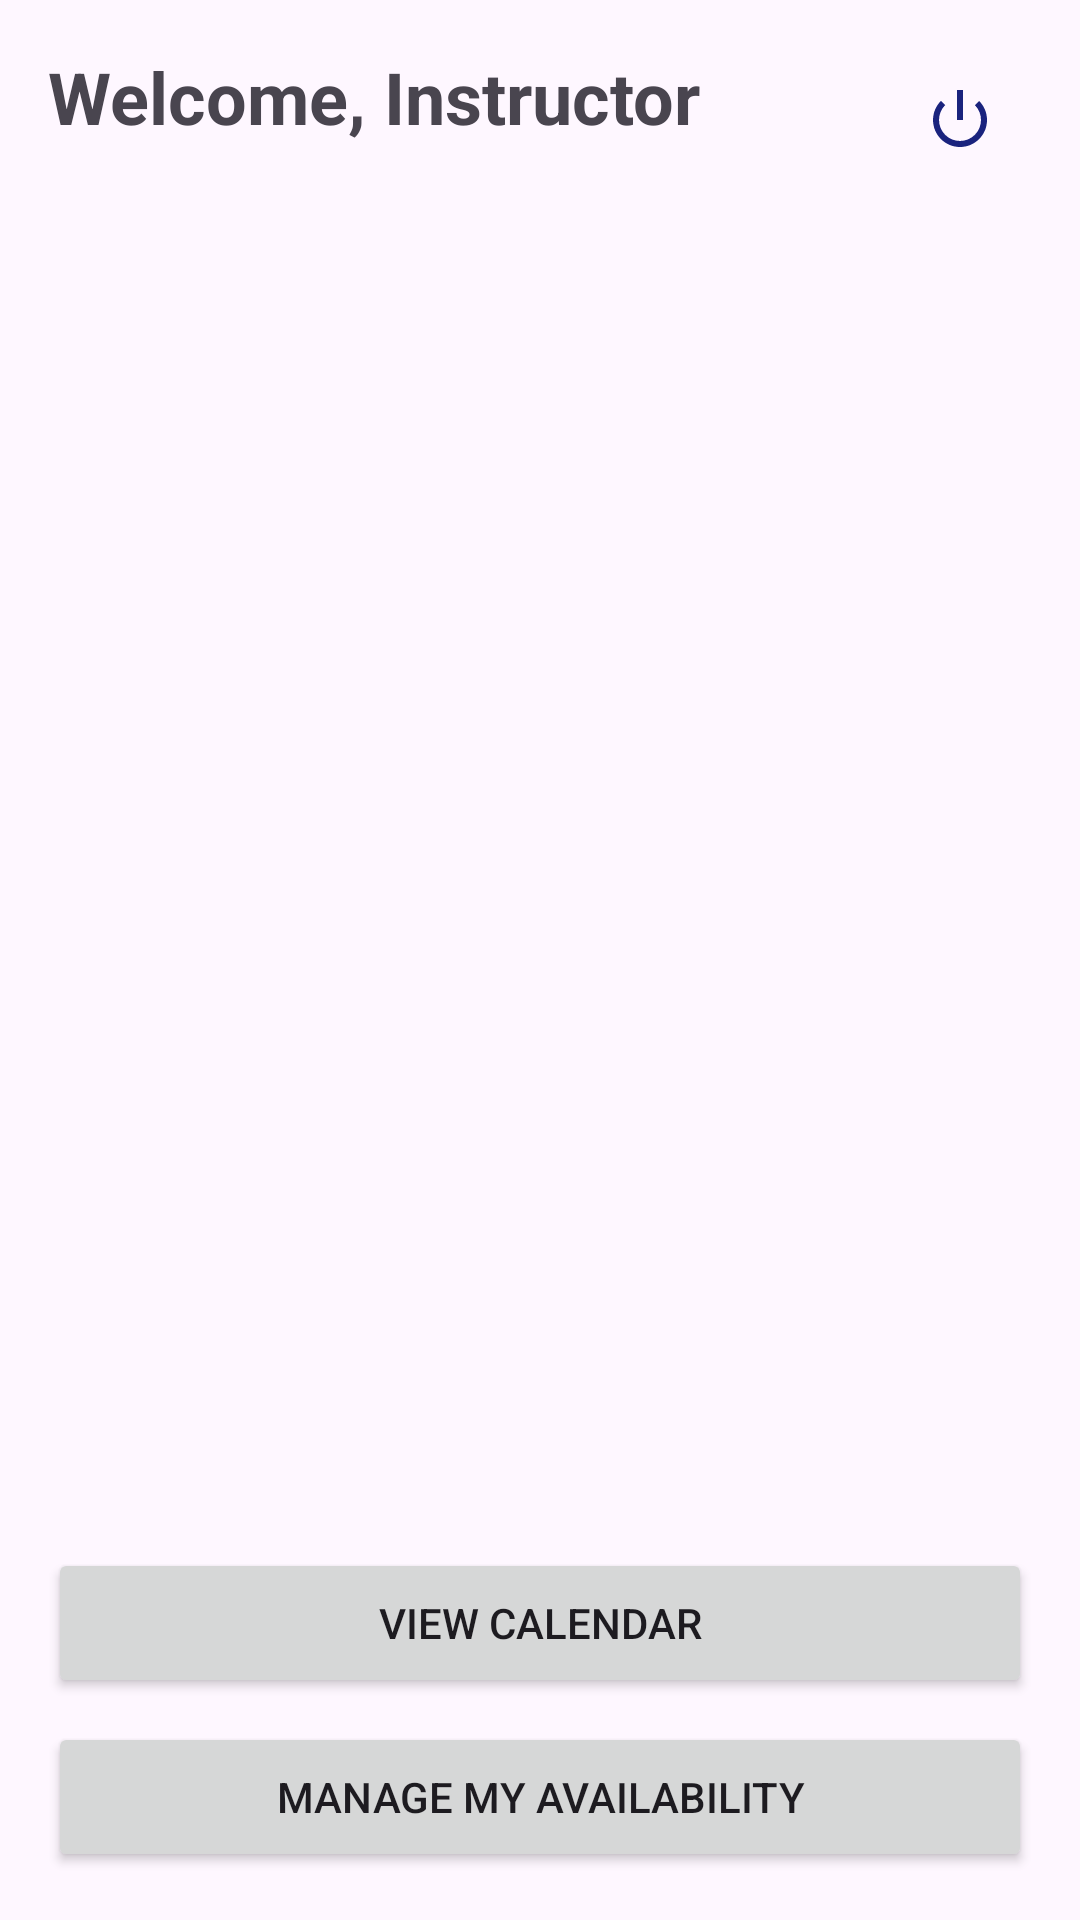

Where icons sit on this 1080px×1920px app screen, as (x1, y1, x2, y2):
lock power off: (933, 90, 987, 147)
